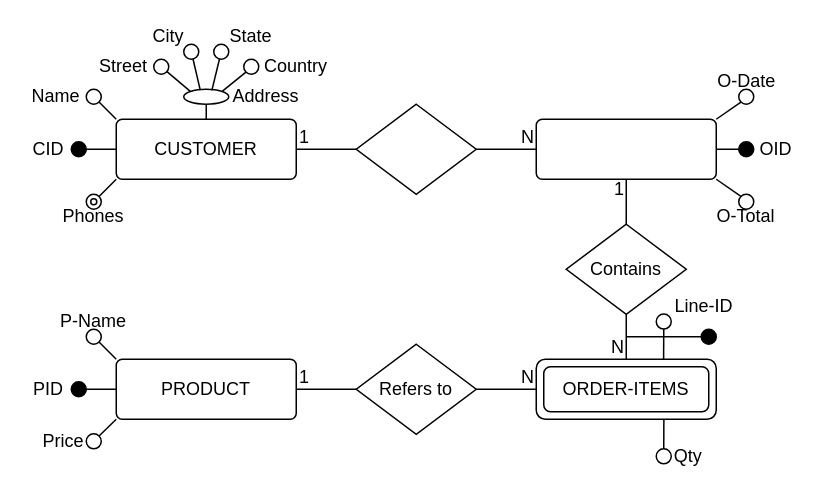
Image size: 824x492. Some labels were removed from this diagram. The centre of each missing label's shape, as x and y in pixels:
Makes: the point at 415,148
ORDER: the point at 625,148
